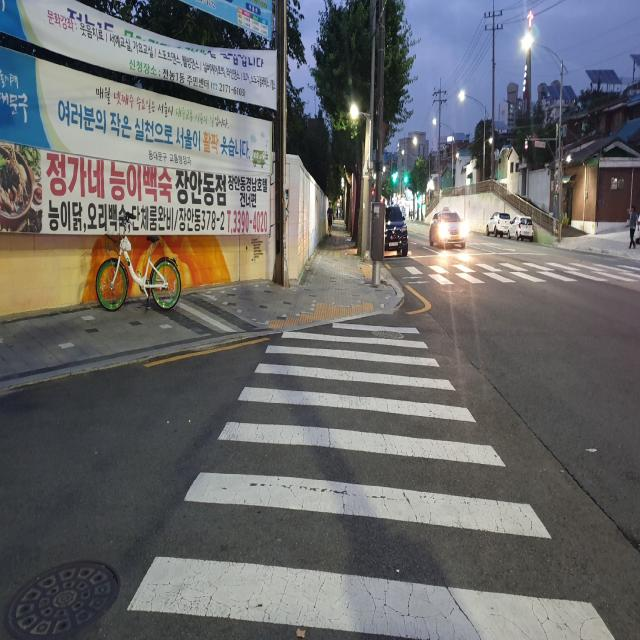횡단보도: (124, 319, 617, 640), (393, 263, 638, 284)
